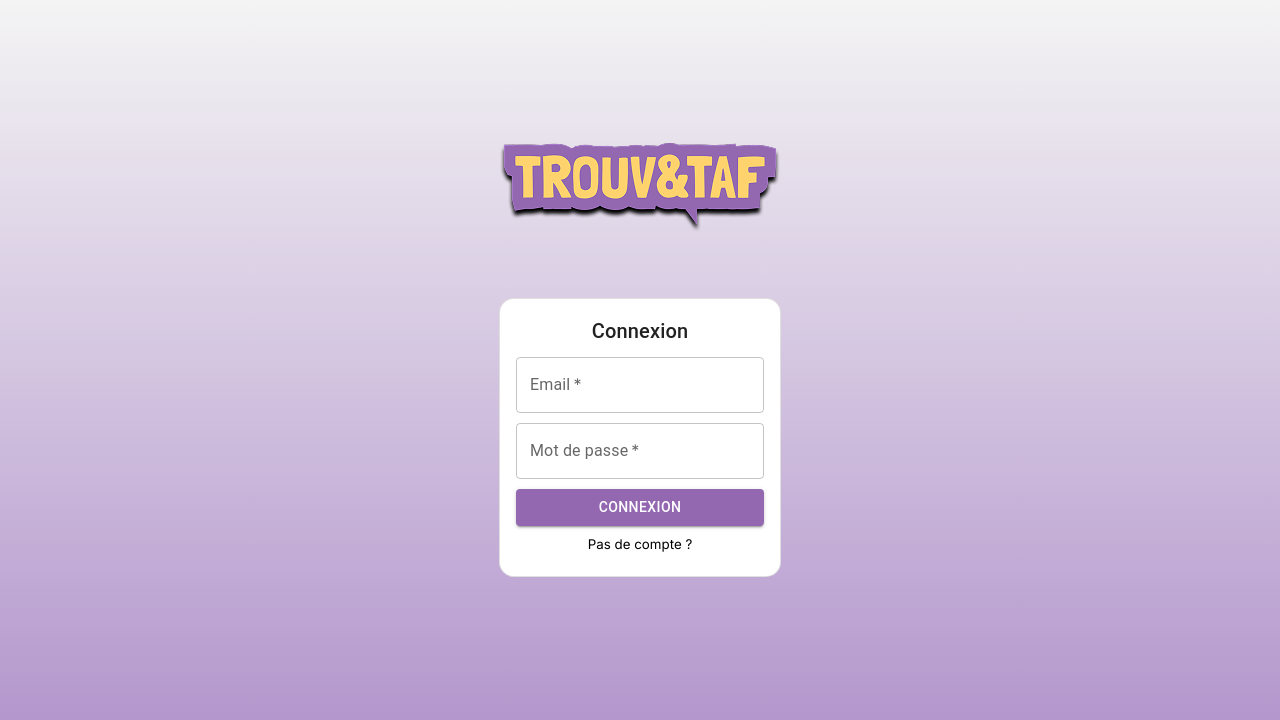
Test case: Login Page › can switch to register form
// Clique sur le bouton "Pas de compte ?"
Click the button "Pas de compte ?": {"x": 641, "y": 544} [588, 536, 693, 552]
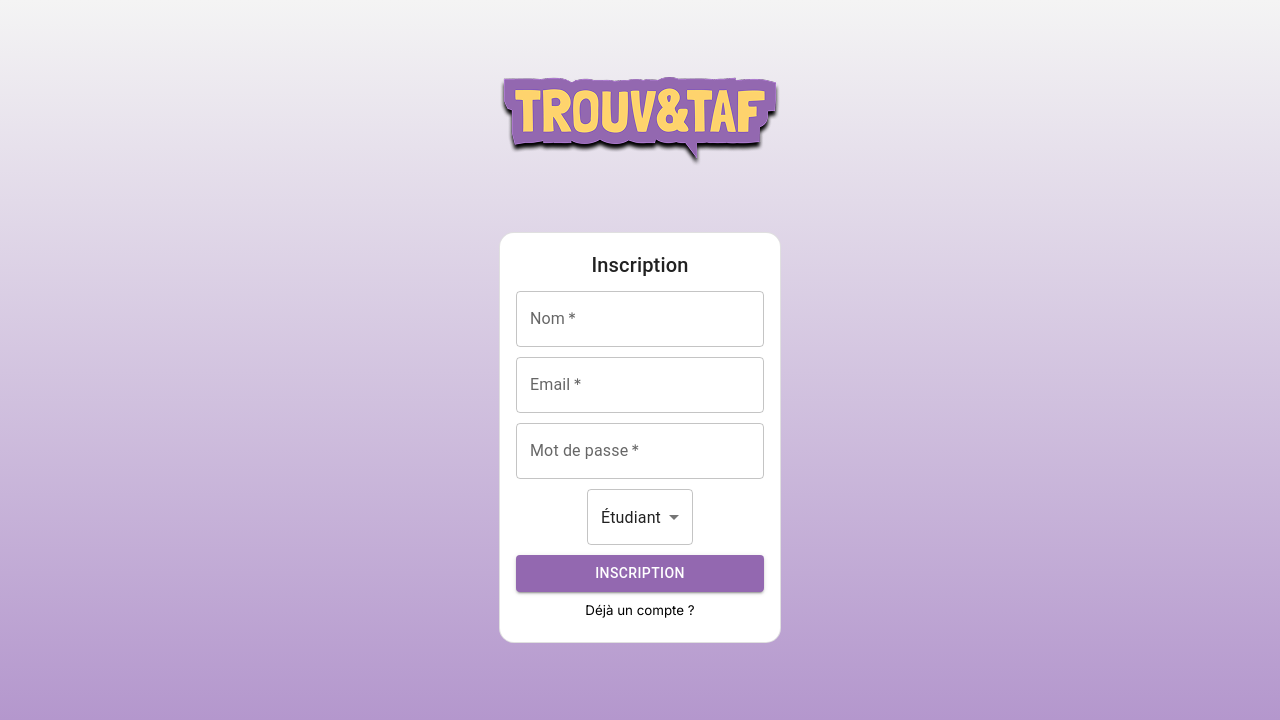
Expected: the field named "email" is shown, [516, 357, 764, 413]
Result: the field named "name" is shown at [516, 291, 764, 347]
Result: the button "Déjà un compte ?" is shown at [585, 602, 695, 618]
